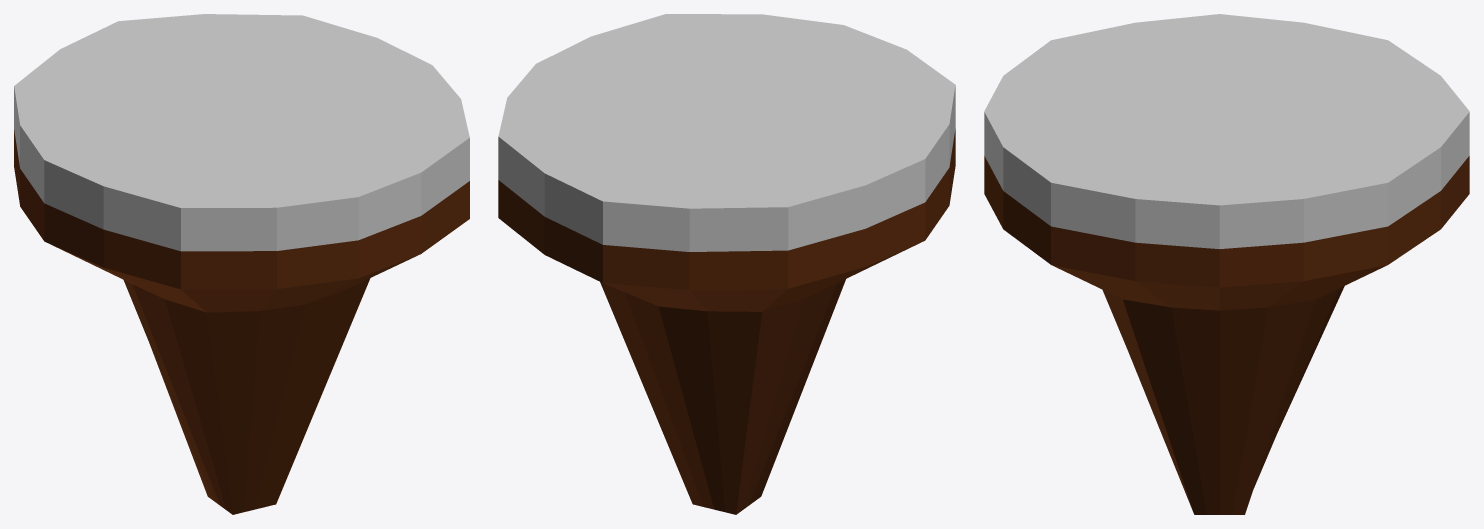
The model's file is Island.obj.
3 renders of one model, left to right at view 1: azimuth 30°, elevation 25°; view 2: azimuth 150°, elevation 25°; view 3: azimuth 270°, elevation 25°, orthographic.
Parts seen in each view (by area): view 1: Cube; view 2: Cube; view 3: Cube.
Part boxes in pixels (x1=…): Cube: x1=14, y1=14, x2=469, y2=514; Cube: x1=498, y1=14, x2=955, y2=514; Cube: x1=984, y1=14, x2=1469, y2=514.
Size of the model in its own units: 17.91 by 17.14 by 19.2.
